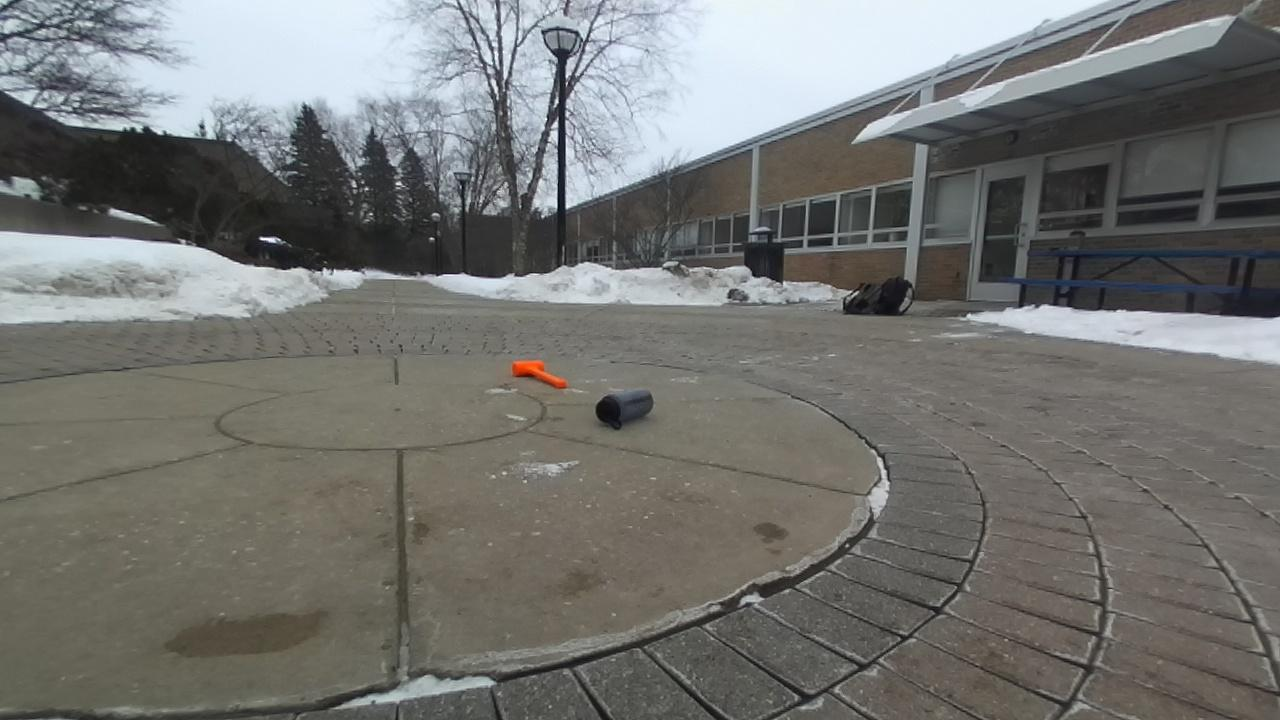bottle: (596, 389, 653, 428)
mallet: (512, 361, 566, 388)
